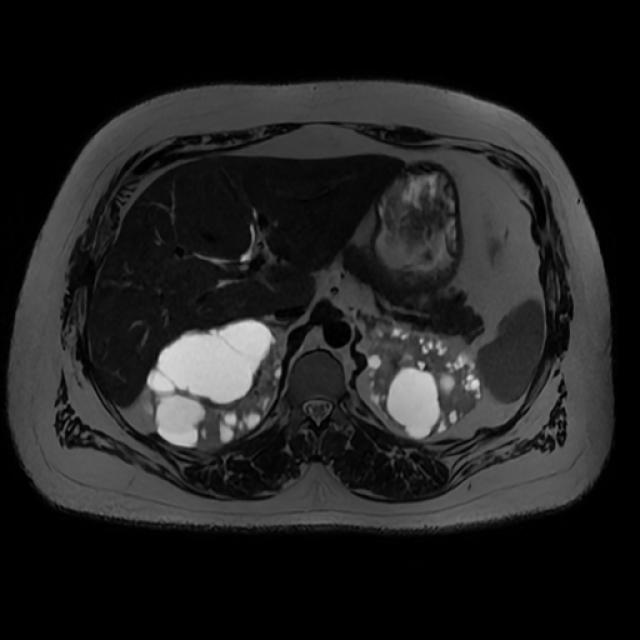sag: (147, 322, 282, 446)
sol: (369, 326, 480, 438)
